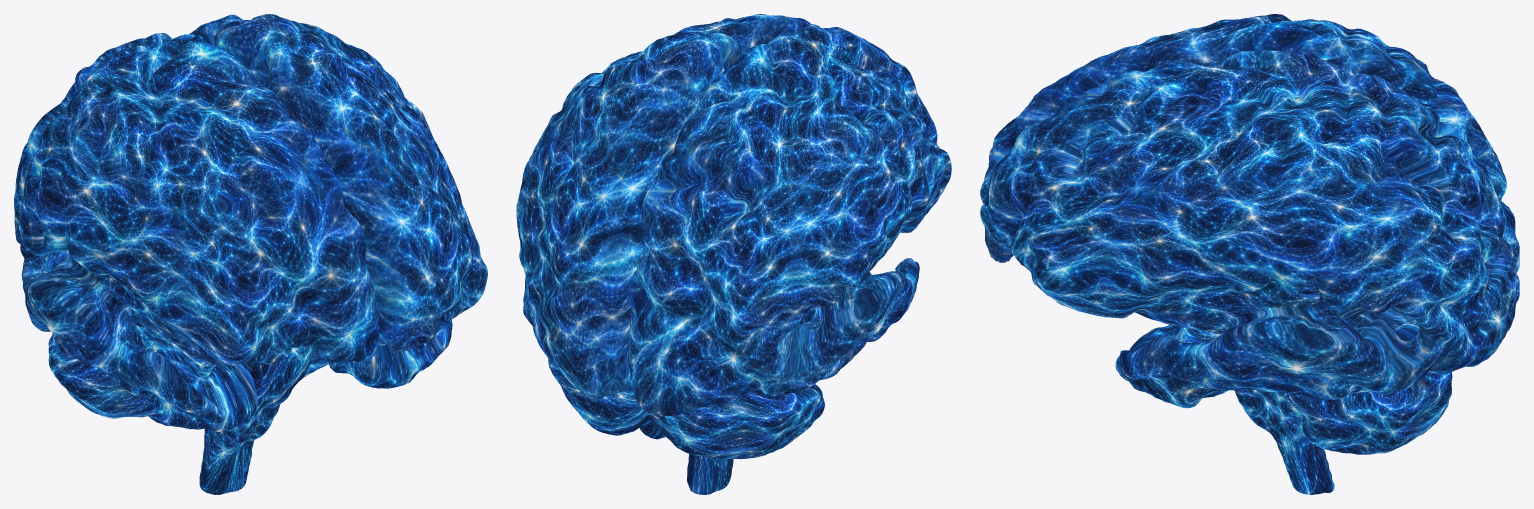
The model's file is annobrain-neural-mobile.glb.
3 views of the same model, side by side, from view 1: azimuth 30°, elevation 25°; view 2: azimuth 150°, elevation 25°; view 3: azimuth 270°, elevation 25° (orthographic). The views are drawn at different scales.
Parts seen in each view (by area): view 1: Right cerebral hemisphere, Left cerebral hemisphere, Brainstem — midbrain, pons and medulla, Cerebellum; view 2: Right cerebral hemisphere, Left cerebral hemisphere, Cerebellum, Brainstem — midbrain, pons and medulla; view 3: Left cerebral hemisphere, Right cerebral hemisphere, Cerebellum, Brainstem — midbrain, pons and medulla.
Part boxes in pixels (bbox=[...]): Right cerebral hemisphere: bbox=[14, 33, 379, 431]; Left cerebral hemisphere: bbox=[189, 14, 487, 388]; Brainstem — midbrain, pons and medulla: bbox=[199, 345, 313, 494]; Cerebellum: bbox=[48, 335, 328, 425]; Right cerebral hemisphere: bbox=[627, 24, 951, 416]; Left cerebral hemisphere: bbox=[516, 14, 811, 399]; Cerebellum: bbox=[548, 358, 824, 459]; Brainstem — midbrain, pons and medulla: bbox=[687, 454, 733, 494]; Left cerebral hemisphere: bbox=[980, 50, 1519, 408]; Right cerebral hemisphere: bbox=[980, 14, 1519, 272]; Cerebellum: bbox=[1288, 372, 1452, 454]; Brainstem — midbrain, pons and medulla: bbox=[1234, 388, 1334, 494].
Bounding box in the file's own units: 2.08 × 2.5 × 2.7.
3 materials, 3 textured.
